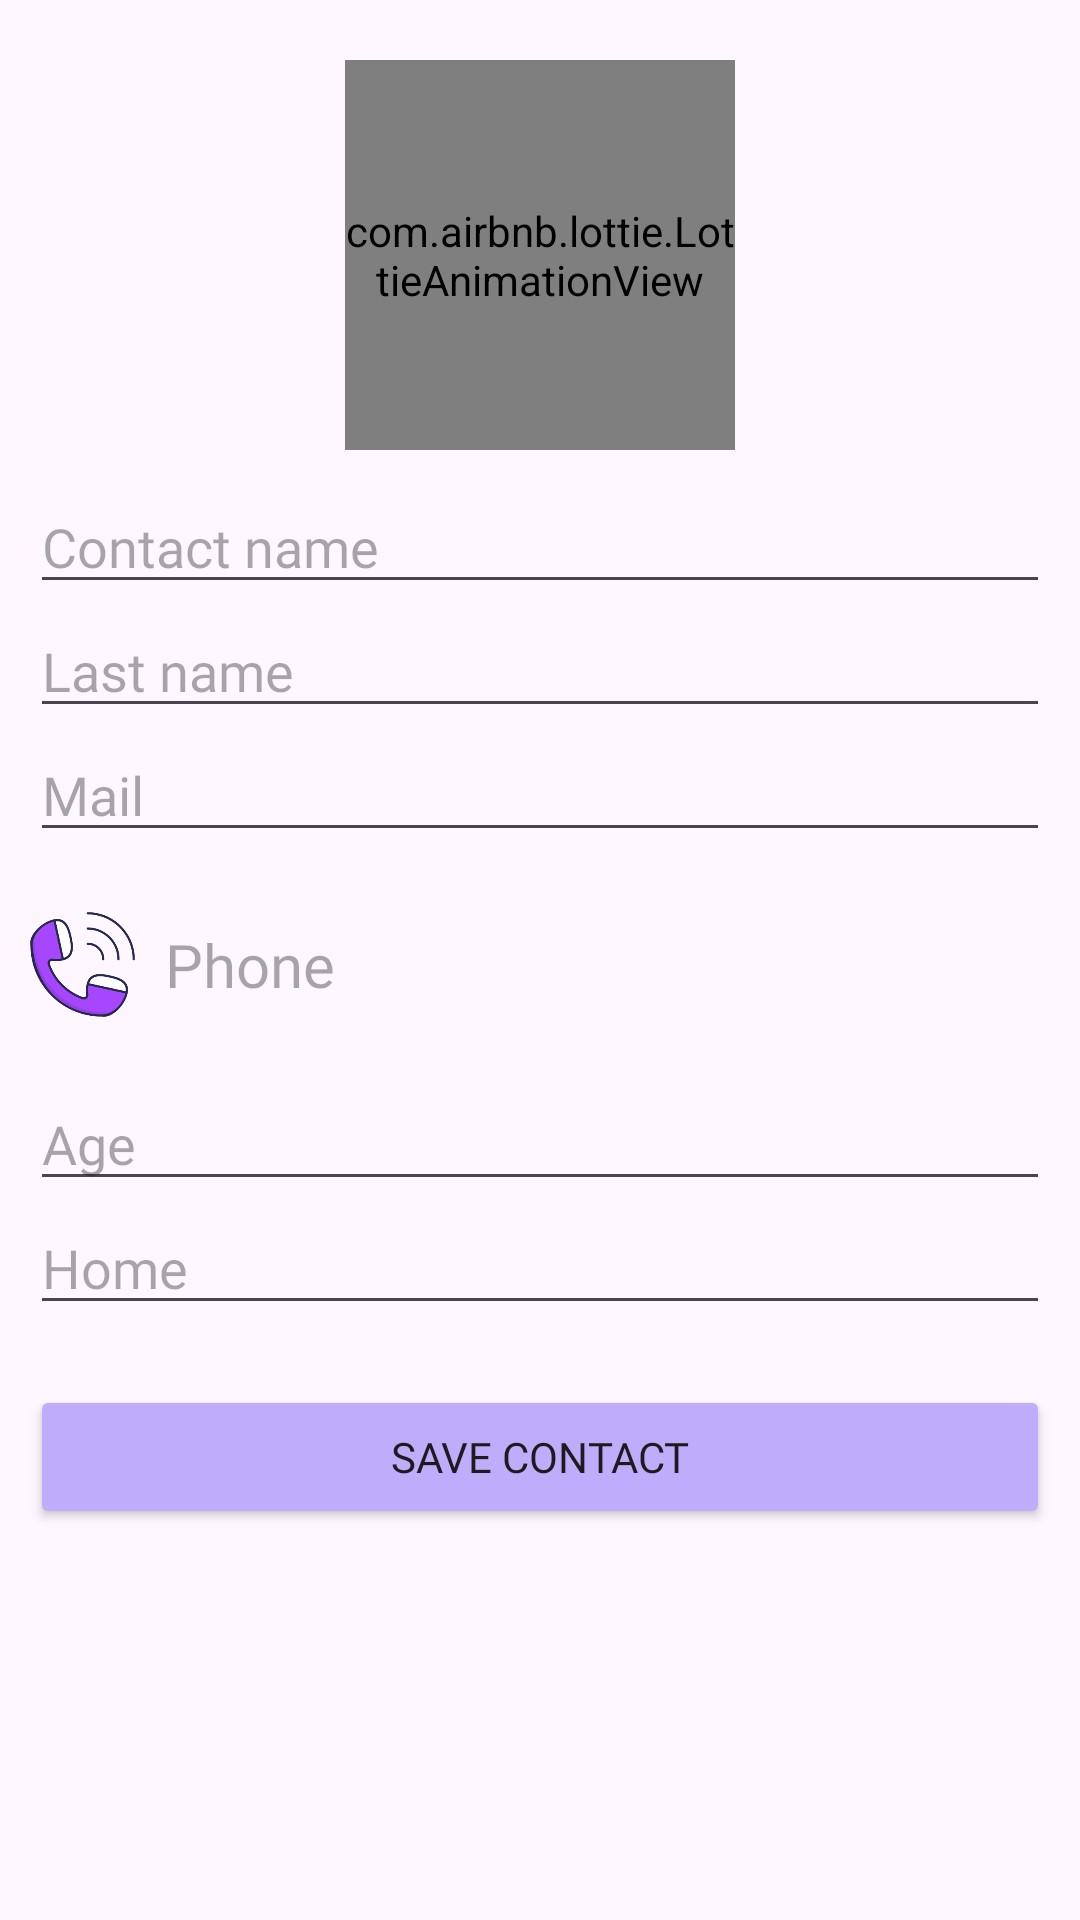

Locate icon controls on the screen. Image size 1080w x 1920h, boxes as (x1, y1, x2, y2).
call: (30, 912, 135, 1017)
